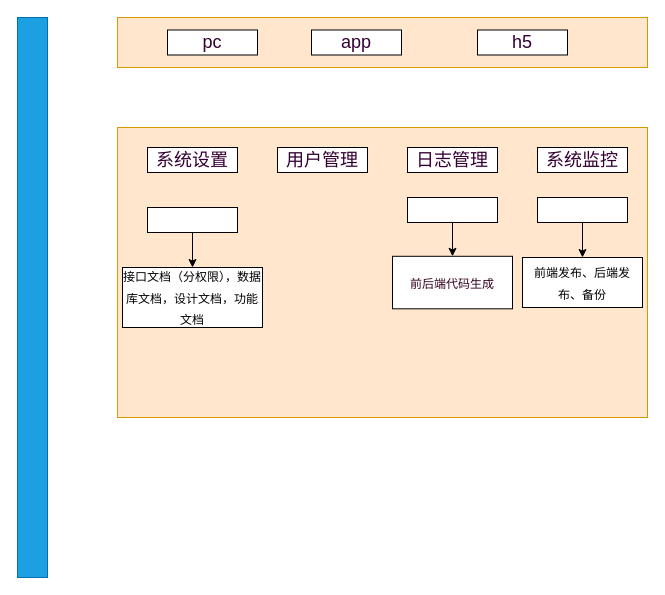
The diagram is 665 pixels wide and 595 high, and some of its shapes have lost their labels. Here are the shapes that lost their labels. From the top down, the box of each, then its label:
(146, 206, 238, 232): 文档管理
(406, 196, 498, 222): 开发能力
(536, 196, 628, 222): 服务发布
(16, 16, 48, 578): 智慧框架系统建设
